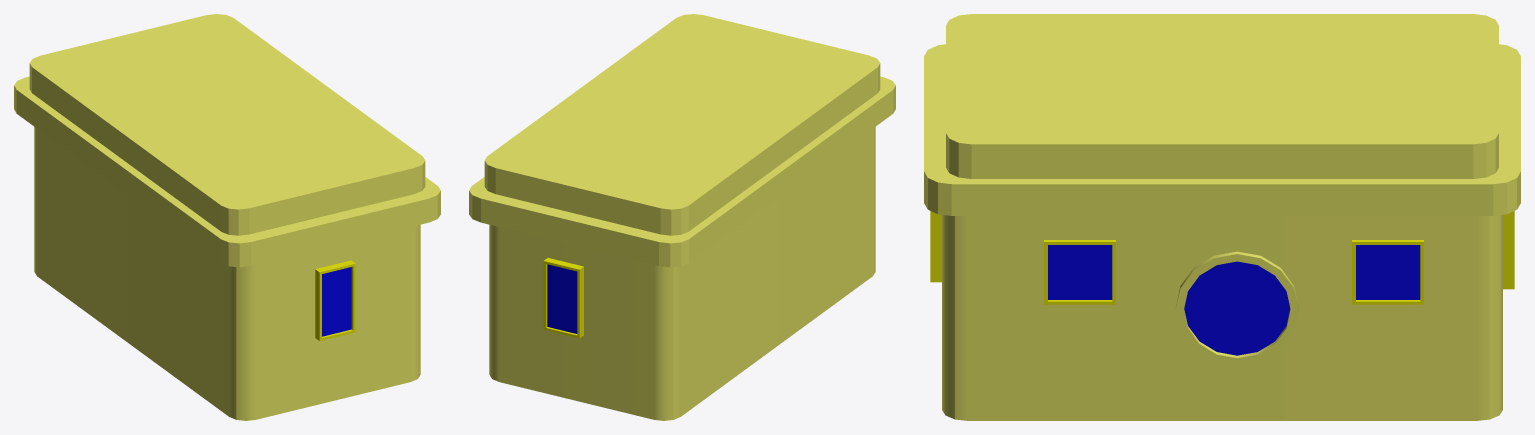
The picture shows the model from 3 angles, left to right: view 1: azimuth 30°, elevation 25°; view 2: azimuth 150°, elevation 25°; view 3: azimuth 270°, elevation 25°; orthographic projection. The views are drawn at different scales.
Parts seen in each view (by area): view 1: pCube51, polySurface52; view 2: pCube51, polySurface53; view 3: pCube51, pTorus2, polySurface50, polySurface51, polySurface53, polySurface52.
Part boxes in pixels (<box>): pCube51: <box>14,14,440,420</box>; polySurface52: <box>315,260,355,340</box>; pCube51: <box>469,14,895,420</box>; polySurface53: <box>543,258,583,338</box>; pCube51: <box>924,14,1520,420</box>; pTorus2: <box>1175,251,1298,365</box>; polySurface50: <box>1044,240,1115,304</box>; polySurface51: <box>1352,240,1423,304</box>; polySurface53: <box>1503,211,1514,289</box>; polySurface52: <box>930,211,941,282</box>.
Size of the model in its own units: 3391 by 3156 by 6080.
